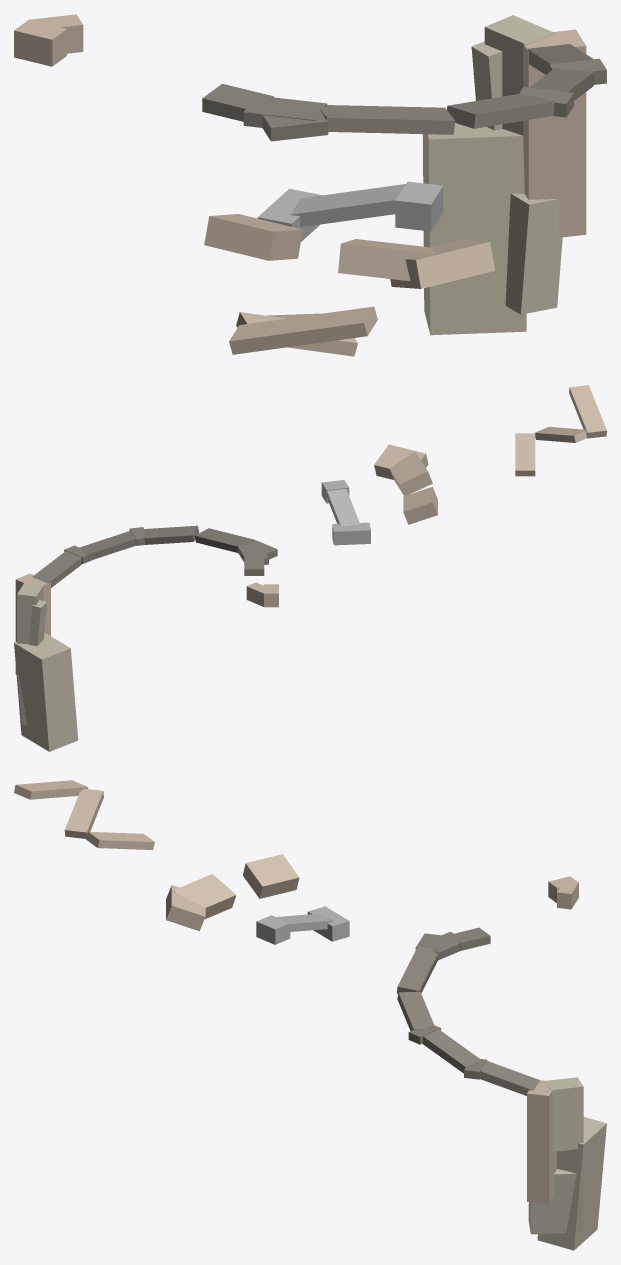
Rendered from p_Walkways.fbx.
3 views of the same model, one above another, from view 1: azimuth 30°, elevation 25°; view 2: azimuth 150°, elevation 25°; view 3: azimuth 270°, elevation 25° (orthographic). The views are drawn at different scales.
Parts seen in each view (by area): view 1: SmellRamp_1__18_, SmellRamp_1__16_, SmellRamp_1__17_, SmellRamp_1__14_, SmellRamp_1__2_, SmellRamp_1__9_, SmellRamp_1__15_, SmellRamp_1__5_, SmellRamp_1__7_, SmellRamp_1__8_, SmellRamp_1__1_, SmellRamp_1__12_ (+12 smaller); view 2: SmellRamp_1__18_, SmellRamp_1__14_, SmellRamp_1__8_, SmellRamp_1__7_, SmellRamp_1__9_, SmellRamp_1__10_, SmellRamp_1__1__1, SmellRamp_1__1_, SmellRamp_1, SmellRamp_1__5_, SmellRamp_1__2_, SmellRamp_1__15_ (+4 smaller); view 3: SmellRamp_1__18_, SmellRamp_1__16_, SmellRamp_1__7_, SmellRamp_1__17_, SmellRamp_1__9_, SmellRamp_1__8_, SmellRamp_1__13_, SmellRamp_1__2_, SmellRamp_1, SmellRamp_1__15_, SmellRamp_1__1__1, SmellRamp_1__14_ (+5 smaller).
Part boxes in pixels (<box>): SmellRamp_1__18_: <box>422,123,526,335</box>; SmellRamp_1__16_: <box>523,29,586,237</box>; SmellRamp_1__17_: <box>505,193,562,314</box>; SmellRamp_1__14_: <box>229,306,377,354</box>; SmellRamp_1__2_: <box>319,105,455,134</box>; SmellRamp_1__9_: <box>204,214,302,260</box>; SmellRamp_1__15_: <box>390,239,494,288</box>; SmellRamp_1__5_: <box>290,184,405,227</box>; SmellRamp_1__7_: <box>484,15,554,135</box>; SmellRamp_1__8_: <box>338,239,436,281</box>; SmellRamp_1__1_: <box>447,94,554,128</box>; SmellRamp_1__12_: <box>395,181,443,231</box>; SmellRamp_1__18_: <box>14,632,78,751</box>; SmellRamp_1__14_: <box>569,385,606,438</box>; SmellRamp_1__8_: <box>390,451,432,495</box>; SmellRamp_1__7_: <box>17,582,43,644</box>; SmellRamp_1__9_: <box>403,487,437,524</box>; SmellRamp_1__10_: <box>515,433,535,476</box>; SmellRamp_1__1__1: <box>32,551,81,587</box>; SmellRamp_1__1_: <box>142,525,199,544</box>; SmellRamp_1: <box>80,530,135,561</box>; SmellRamp_1__5_: <box>327,489,360,526</box>; SmellRamp_1__2_: <box>195,528,255,552</box>; SmellRamp_1__15_: <box>374,444,428,479</box>; SmellRamp_1__18_: <box>537,1117,606,1250</box>; SmellRamp_1__16_: <box>527,1080,556,1204</box>; SmellRamp_1__7_: <box>544,1077,583,1151</box>; SmellRamp_1__17_: <box>528,1169,582,1234</box>; SmellRamp_1__9_: <box>243,854,299,898</box>; SmellRamp_1__8_: <box>173,874,236,919</box>; SmellRamp_1__13_: <box>64,788,103,838</box>; SmellRamp_1__2_: <box>397,946,438,993</box>; SmellRamp_1: <box>422,1029,480,1073</box>; SmellRamp_1__15_: <box>166,885,205,931</box>; SmellRamp_1__1__1: <box>480,1061,540,1095</box>; SmellRamp_1__14_: <box>14,780,88,799</box>.
Size of the model in its own units: 5913 by 3692 by 6943.
